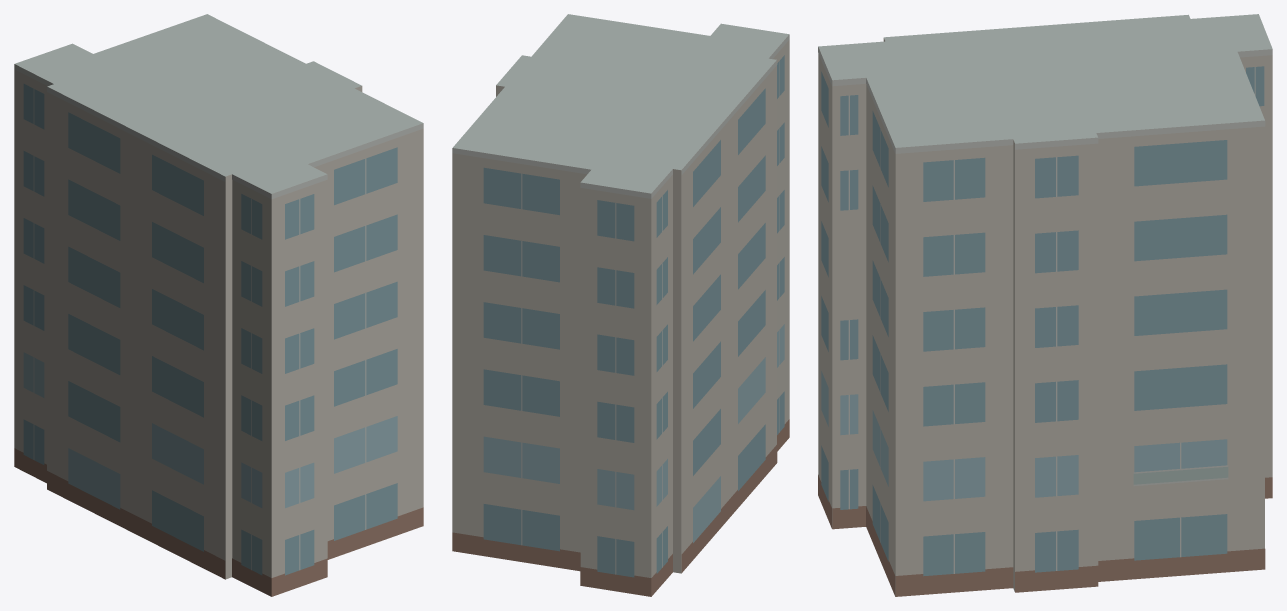
The model's file is survey-upis-33031611.glb.
3 views of the same model, side by side, from view 1: azimuth 30°, elevation 25°; view 2: azimuth 150°, elevation 25°; view 3: azimuth 270°, elevation 25° (orthographic). The views are drawn at different scales.
Visible parts, largest first — view 1: survey-upis-33031611.tmp; view 2: survey-upis-33031611.tmp; view 3: survey-upis-33031611.tmp.
Part boxes in pixels (bbox=[...]): survey-upis-33031611.tmp: bbox=[14, 14, 423, 596]; survey-upis-33031611.tmp: bbox=[452, 14, 789, 596]; survey-upis-33031611.tmp: bbox=[818, 14, 1272, 596].
Bounding box in the file's own units: 11.72 × 18.3 × 16.8.
